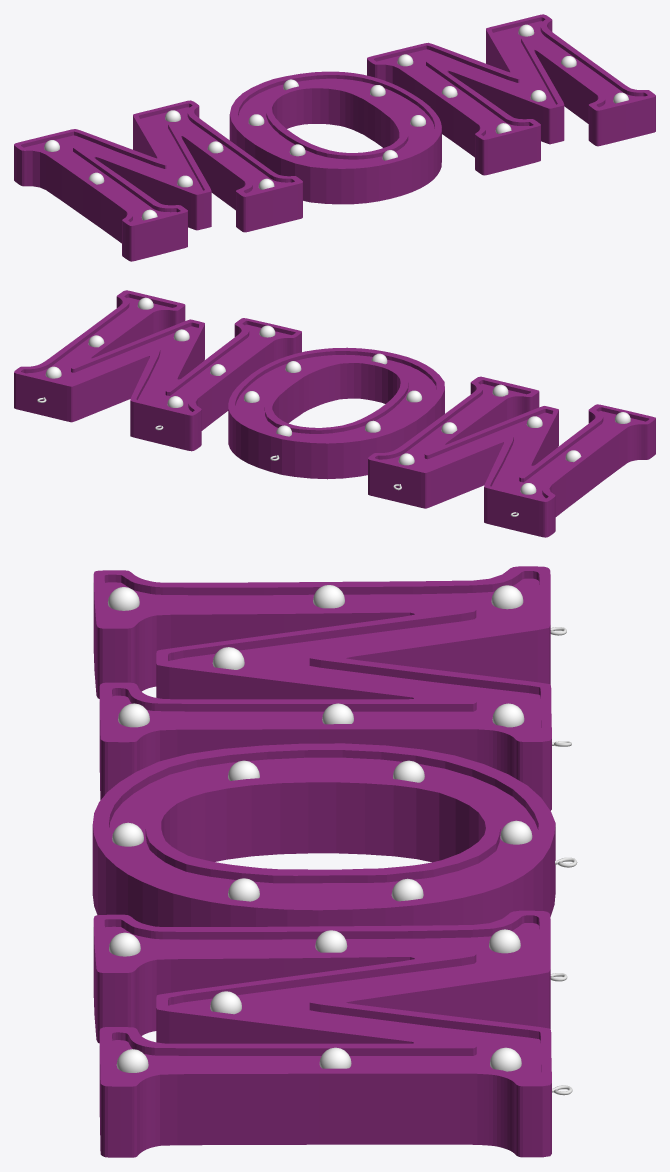
File: mothers-day-3.glb
The picture shows the model from 3 angles, top to bottom: view 1: azimuth 30°, elevation 25°; view 2: azimuth 150°, elevation 25°; view 3: azimuth 270°, elevation 25°; orthographic projection. The views are drawn at different scales.
Visible parts, largest first — view 1: M1, M2, O1; view 2: M1, M2, O1; view 3: M2, M1, O1.
Boxes of the visible parts, bbox=[...] form: M1: bbox=[14, 100, 302, 261]; M2: bbox=[367, 14, 655, 175]; O1: bbox=[229, 71, 441, 204]; M1: bbox=[368, 376, 655, 537]; M2: bbox=[14, 290, 301, 451]; O1: bbox=[228, 347, 444, 479]; M2: bbox=[93, 910, 551, 1157]; M1: bbox=[93, 566, 551, 810]; O1: bbox=[92, 743, 555, 926].
Size of the model in its own units: 9.42 by 0.6695 by 3.71.
Materials: 2 (1 with a texture image).
